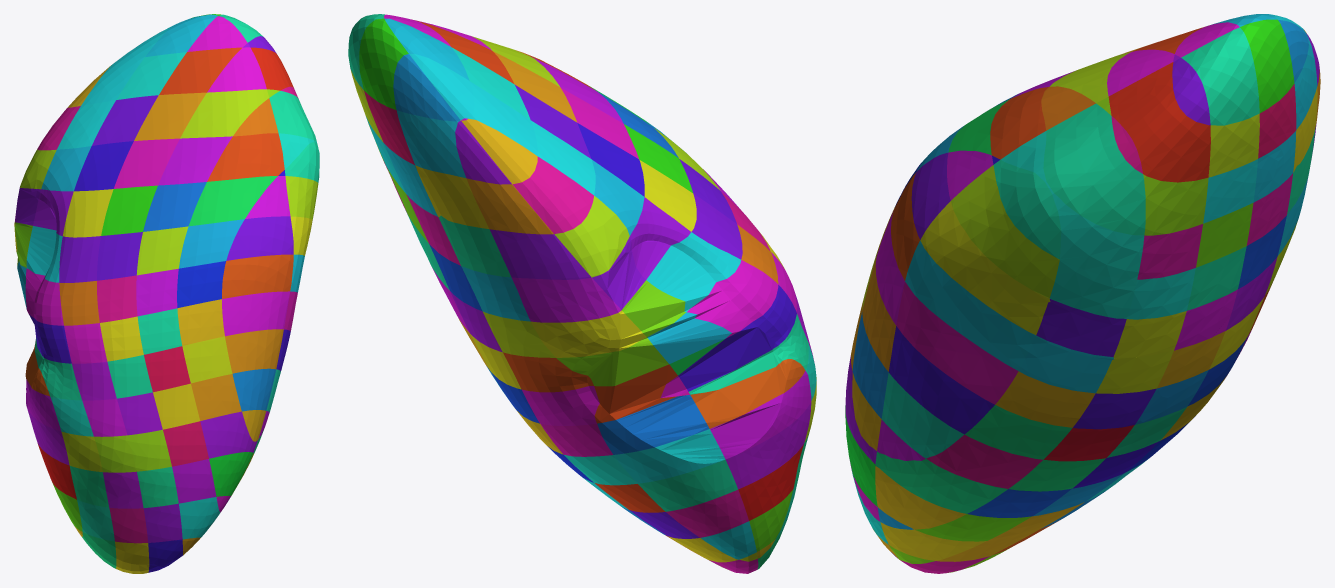
The model's file is kidney-female-right-vu-v1.0.glb.
The picture shows the model from 3 angles, left to right: view 1: azimuth 30°, elevation 25°; view 2: azimuth 150°, elevation 25°; view 3: azimuth 270°, elevation 25°; orthographic projection. The views are drawn at different scales.
Visible parts, largest first — view 1: world; view 2: world; view 3: world.
Part boxes in pixels (x1,y1,x2,y2): world: (14, 14, 319, 573); world: (348, 14, 816, 573); world: (845, 14, 1320, 573).
Size of the model in its own units: 0.0575 by 0.0831 by 0.053.
